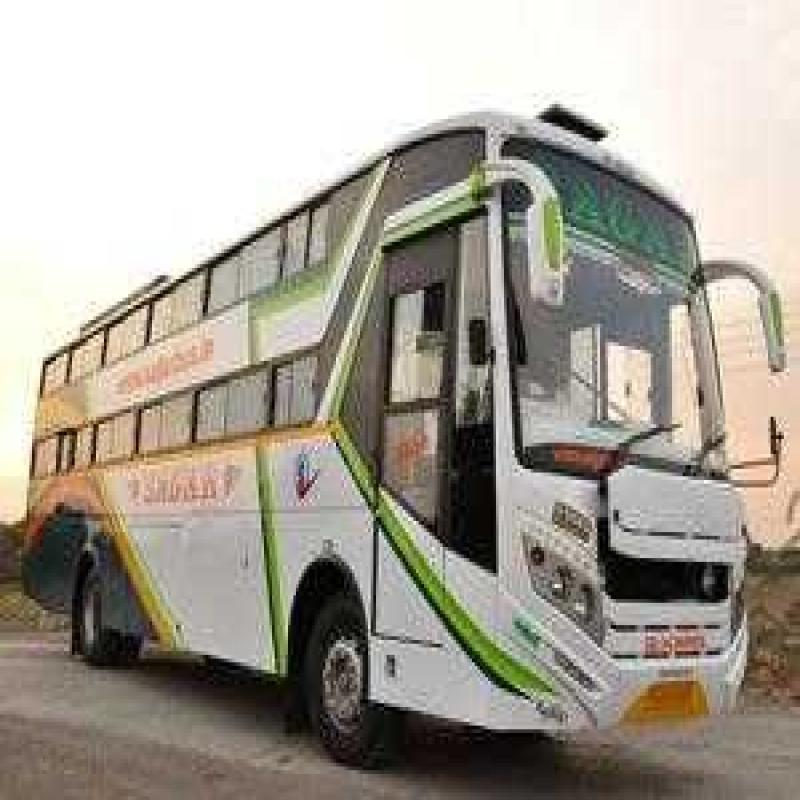bus: (38, 89, 795, 772)
